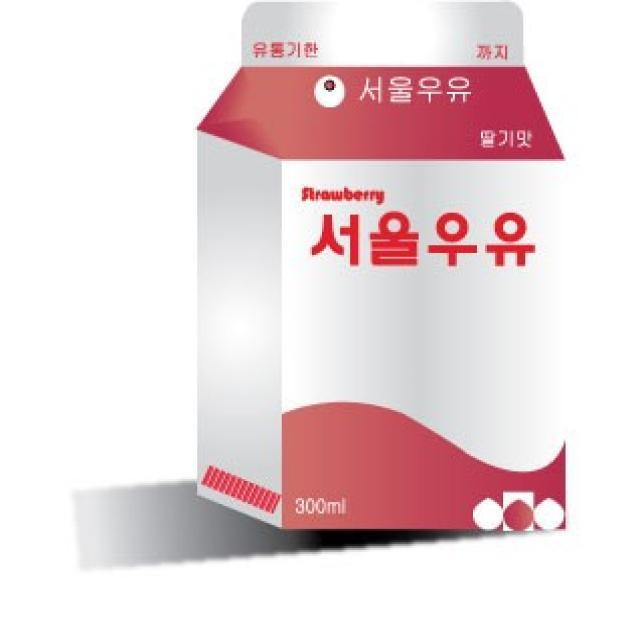Carton: (171, 0, 589, 588)
